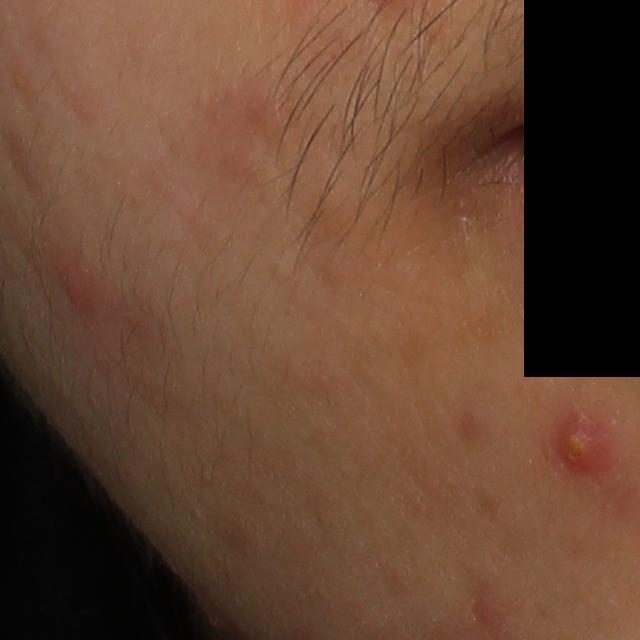papule: (53, 254, 95, 315)
pustule: (546, 403, 617, 477)
